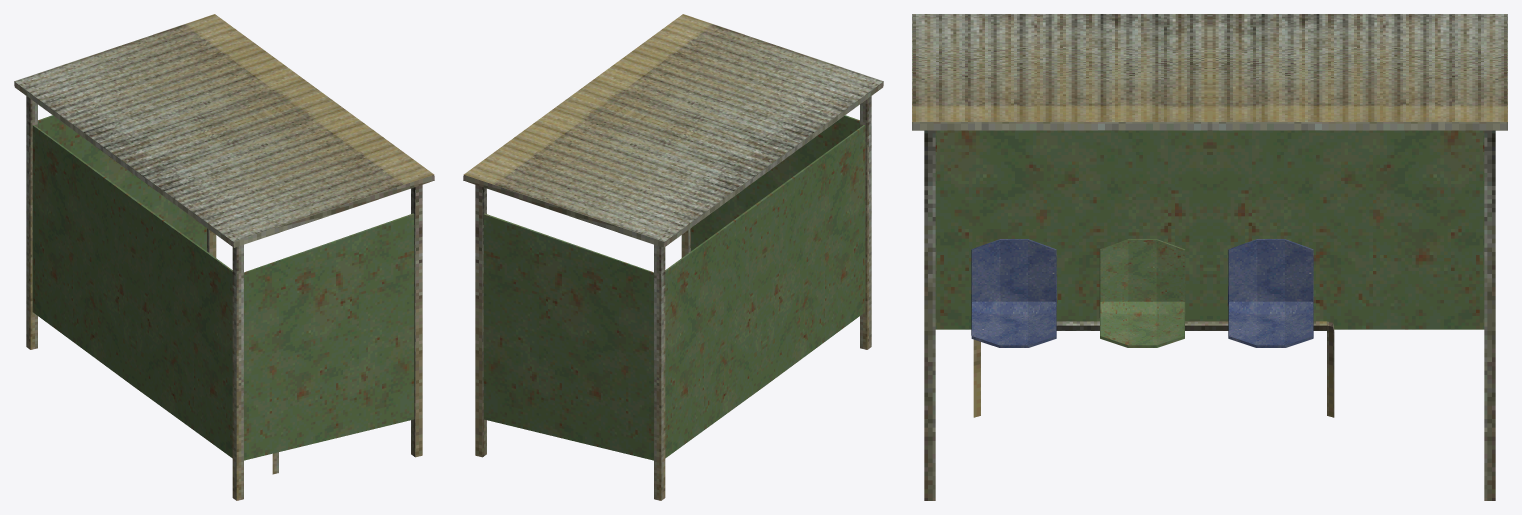
Rendered from busstop_clean_seats_alt.glb.
The picture shows the model from 3 angles, left to right: view 1: azimuth 30°, elevation 25°; view 2: azimuth 150°, elevation 25°; view 3: azimuth 270°, elevation 25°; orthographic projection. The views are drawn at different scales.
Parts seen in each view (by area): view 1: busstop_clean_seats_alt; view 2: busstop_clean_seats_alt; view 3: busstop_clean_seats_alt.
Part boxes in pixels (x1=…): busstop_clean_seats_alt: x1=14, y1=14, x2=434, y2=500; busstop_clean_seats_alt: x1=463, y1=14, x2=883, y2=500; busstop_clean_seats_alt: x1=912, y1=14, x2=1507, y2=500.
Bounding box in the file's own units: 2.26 × 3.03 × 4.26.
1 material, 1 textured.
